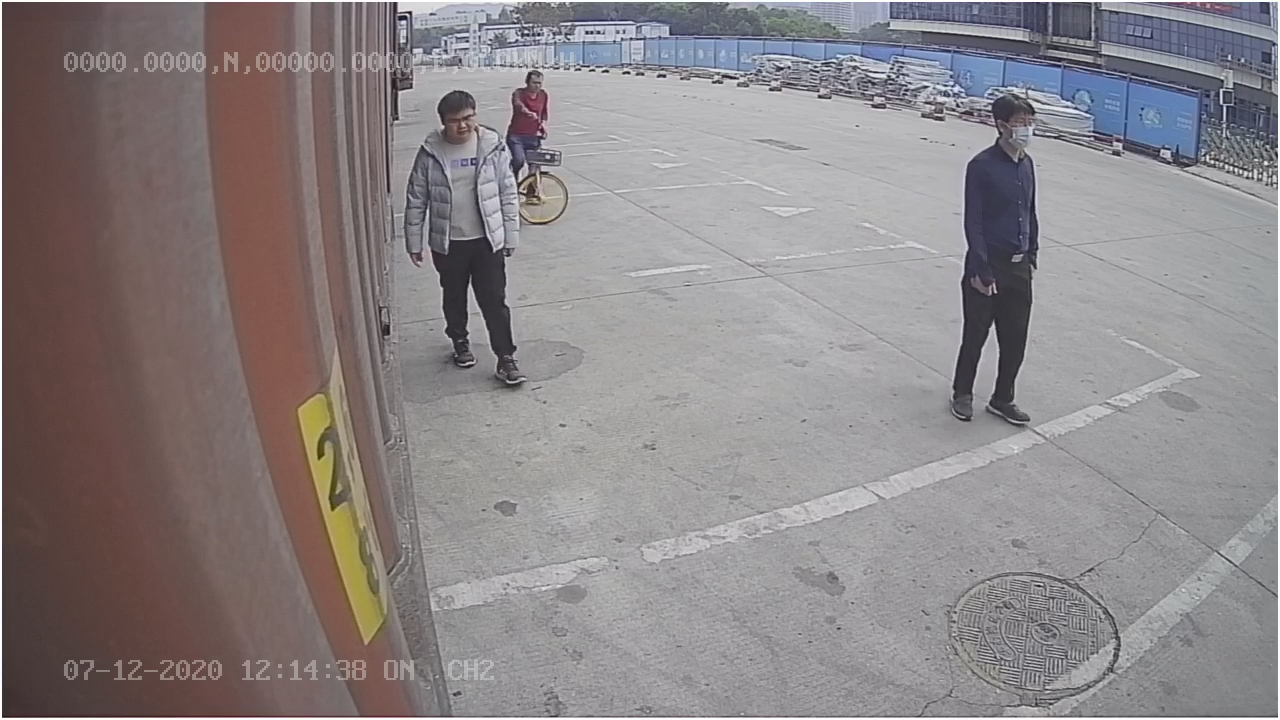person: (947, 87, 1047, 436)
